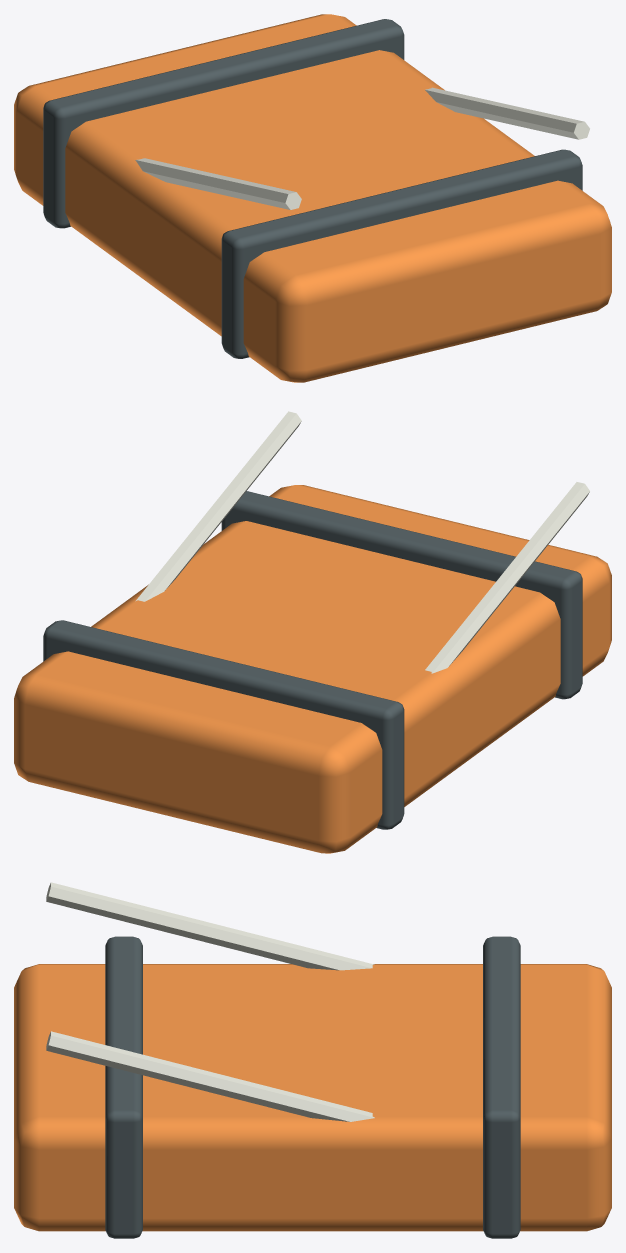
The model's file is castaway-island-escape-packed-evacuation-sling-516a6488__28072.glb.
3 views of the same model, one above another, from view 1: azimuth 30°, elevation 25°; view 2: azimuth 150°, elevation 25°; view 3: azimuth 270°, elevation 25° (orthographic). The views are drawn at different scales.
Visible parts, largest first — view 1: packed-evacuation-sling-orange, packed-evacuation-sling-iron, packed-evacuation-sling-ivory; view 2: packed-evacuation-sling-orange, packed-evacuation-sling-iron, packed-evacuation-sling-ivory; view 3: packed-evacuation-sling-orange, packed-evacuation-sling-iron, packed-evacuation-sling-ivory.
Part boxes in pixels (x1,y1,x2,y2): packed-evacuation-sling-orange: (14,14,611,382); packed-evacuation-sling-iron: (43,19,582,358); packed-evacuation-sling-ivory: (135,87,589,209); packed-evacuation-sling-orange: (14,485,611,853); packed-evacuation-sling-iron: (43,491,582,829); packed-evacuation-sling-ivory: (135,411,589,673); packed-evacuation-sling-orange: (14,964,611,1231); packed-evacuation-sling-iron: (105,936,520,1238); packed-evacuation-sling-ivory: (46,882,374,1121).
Bounding box in the file's own units: 0.68 × 0.3433 × 0.95.
